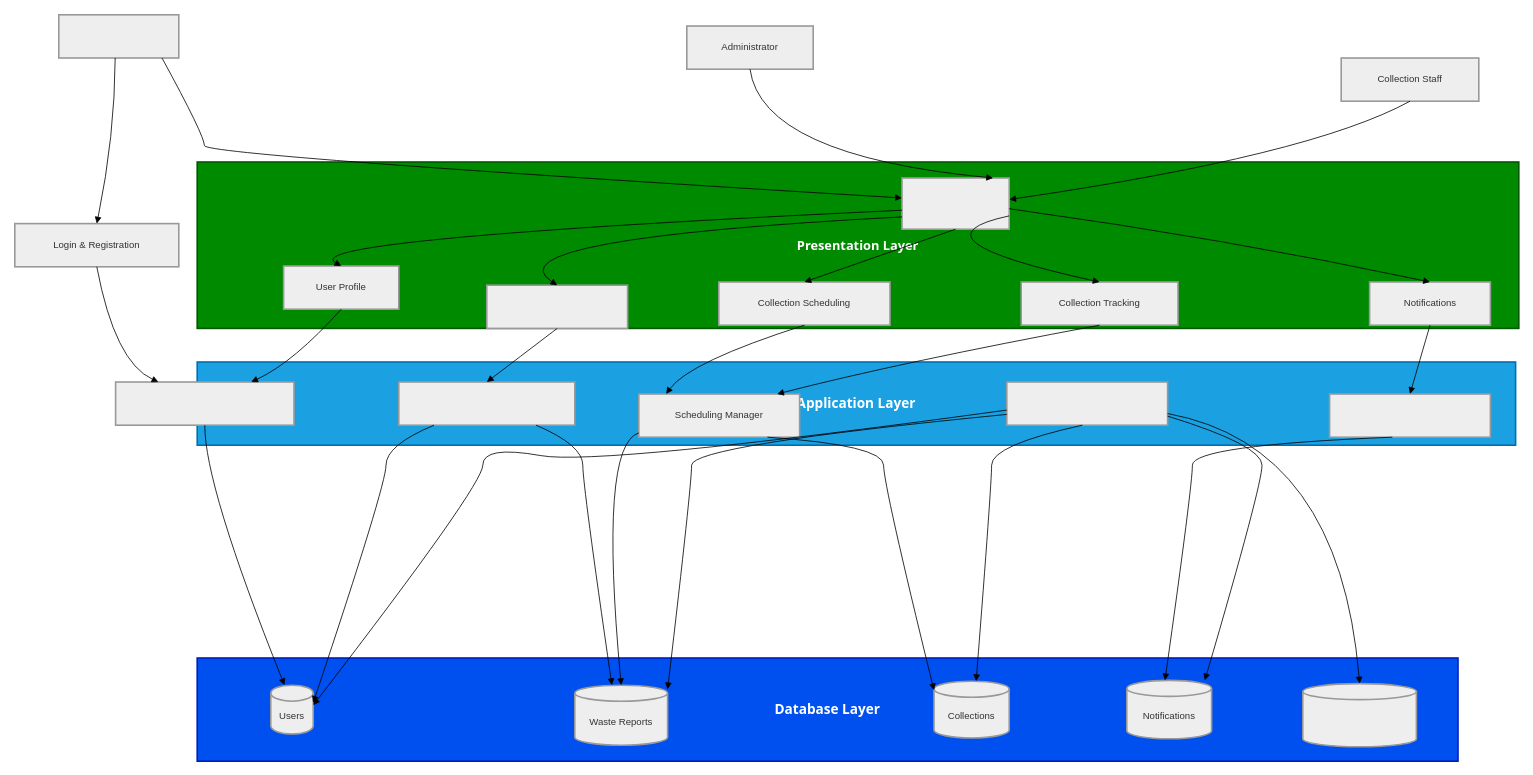
Image size: 1533x775. Some labels were removed from this diagram. Each missing label, with the centre of its shape:
"Admin Management" belongs at (1087,403).
"Authentication Service" belongs at (204,403).
"Citizen/User" belongs at (118,36).
"Dashboard" belongs at (955,203).
"Notification Service" belongs at (1409,415).
"Recycling Centers" belongs at (1359,714).
"Waste Report Manager" belongs at (486,403).
"Waste Reporting" belongs at (557,306).
